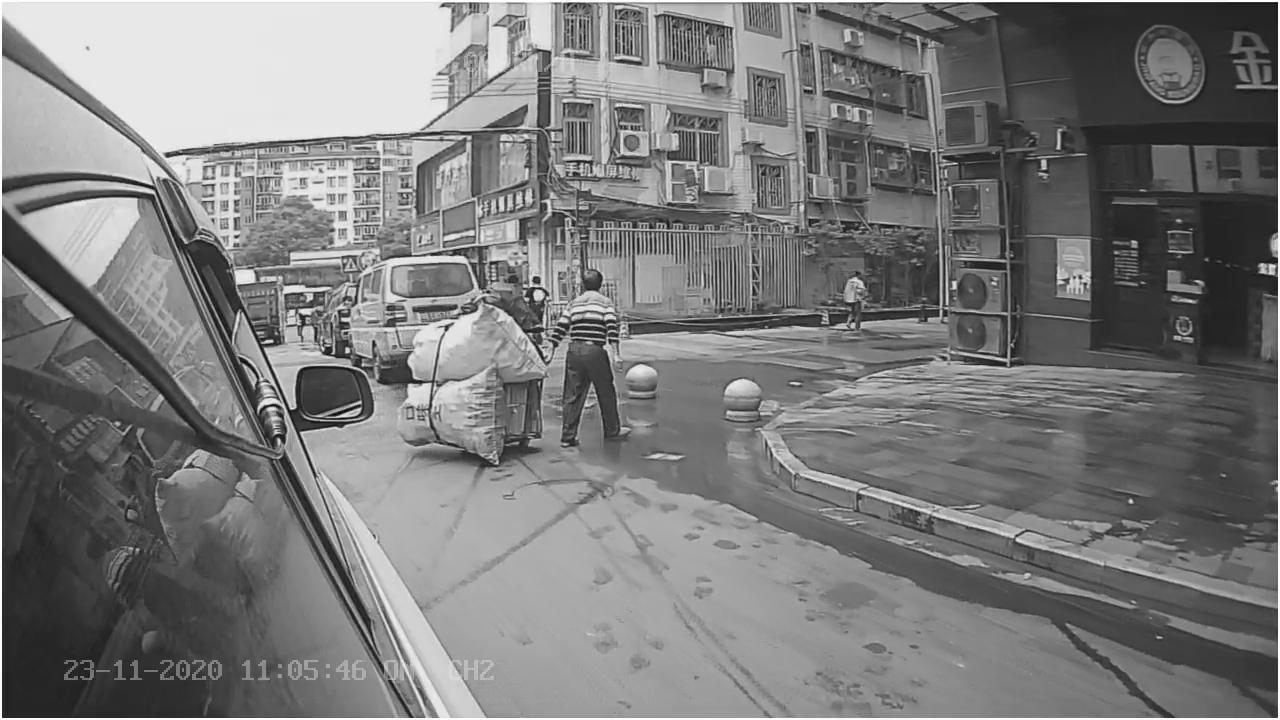person: (551, 265, 631, 449)
